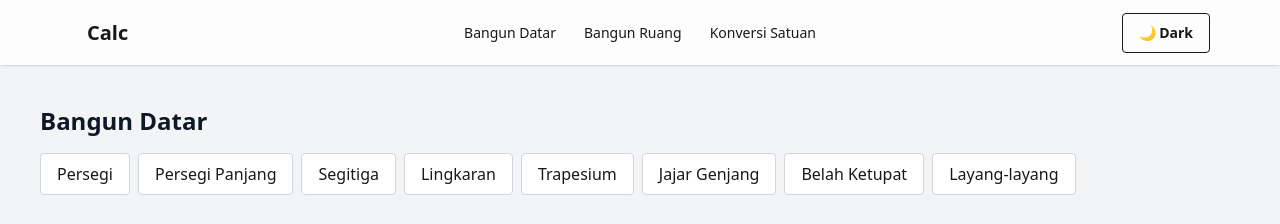
Test: App › uses requested Bangun Ruang label grid columns
Click the button "Bangun Ruang": click(633, 32) [572,16,694,49]
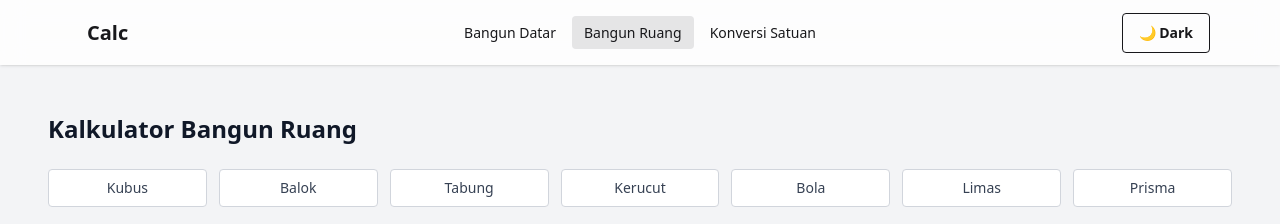
Now the button "Kubus" is shown, box [48,169,207,207]
